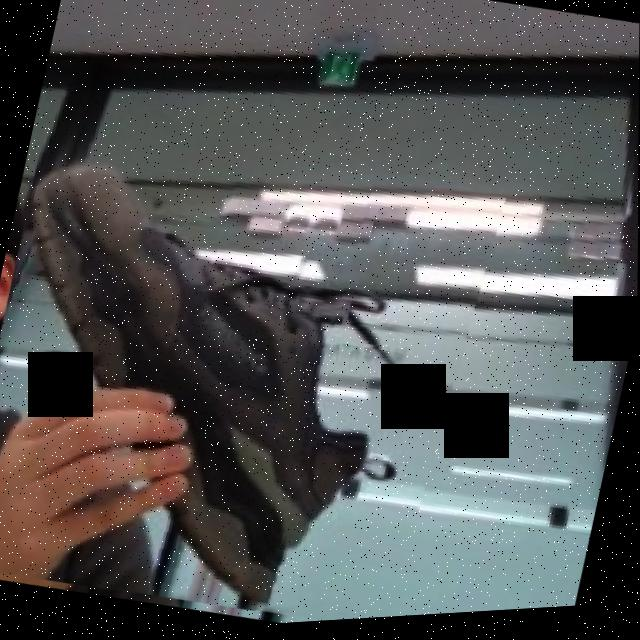shoe: (0, 105, 506, 640)
